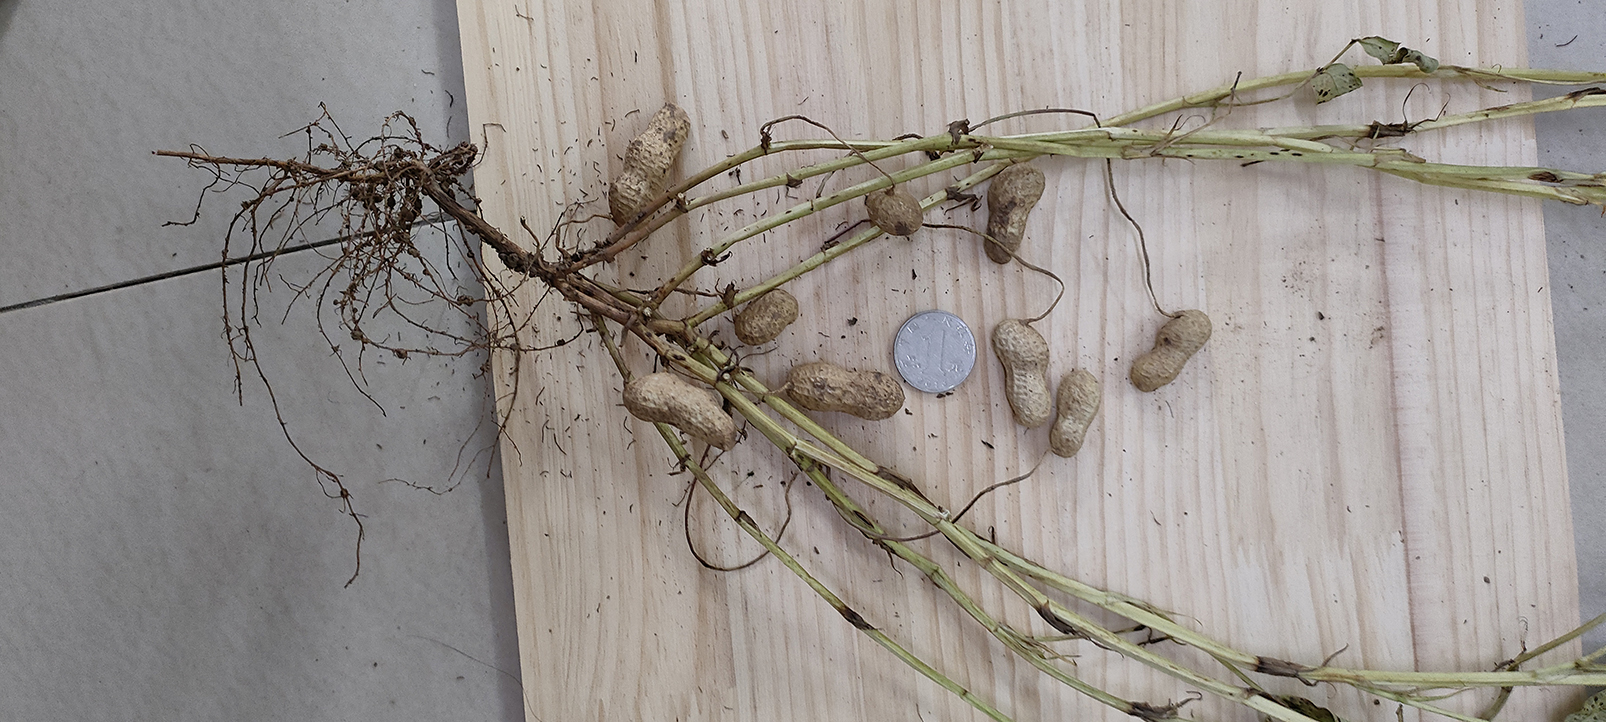h: (609, 100, 690, 226), (625, 369, 736, 448), (1126, 307, 1215, 392), (786, 364, 906, 420), (991, 318, 1052, 427), (1049, 367, 1103, 457), (736, 288, 798, 343), (867, 187, 924, 235)
l: (985, 165, 1050, 264)
